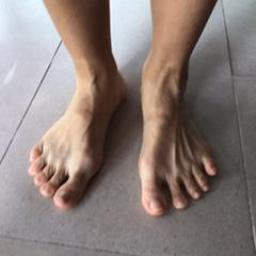Dorsal View -Both Feet-: (13, 19, 244, 233)
